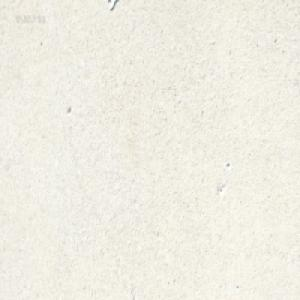Wrench: (108, 0, 115, 9)
